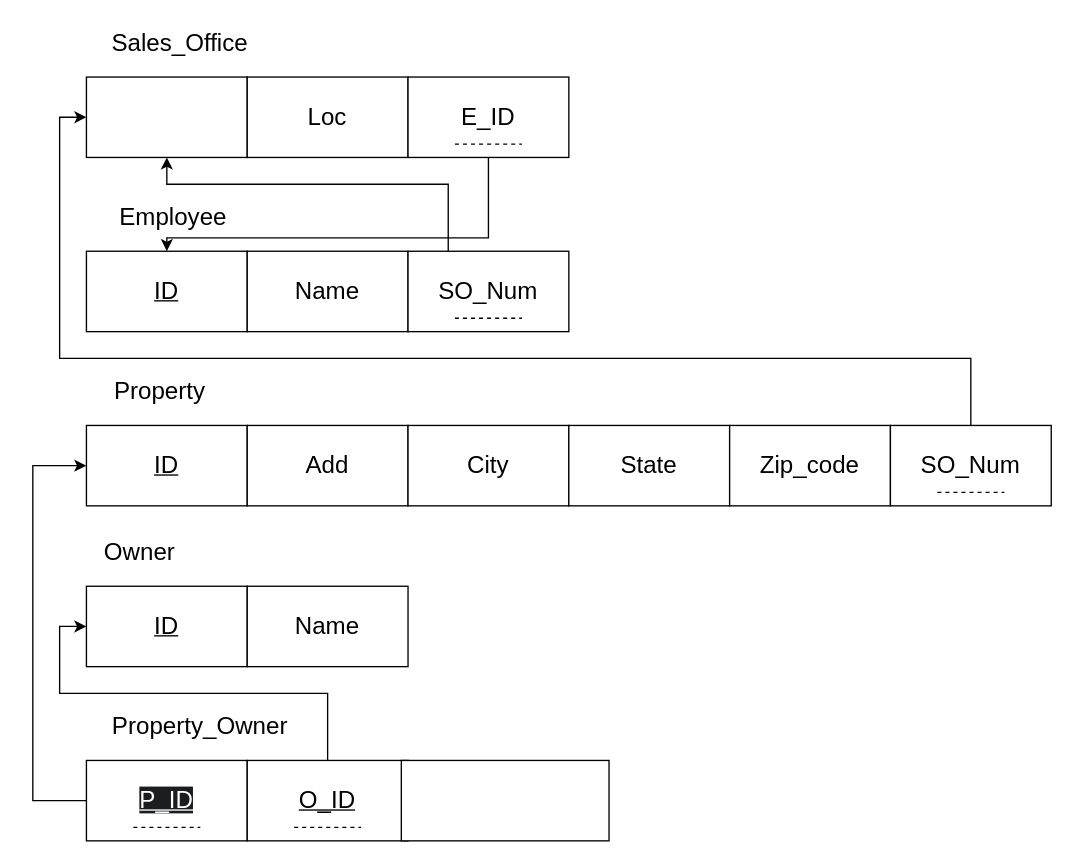
Some shapes in this 1075 by 864 pixel diagram are drawn without their labels. Here are the shapes that lost their labels. From the top down, the centre of each, then its label:
At (166,116): "Num".
At (504,800): "Percent_Owned".
